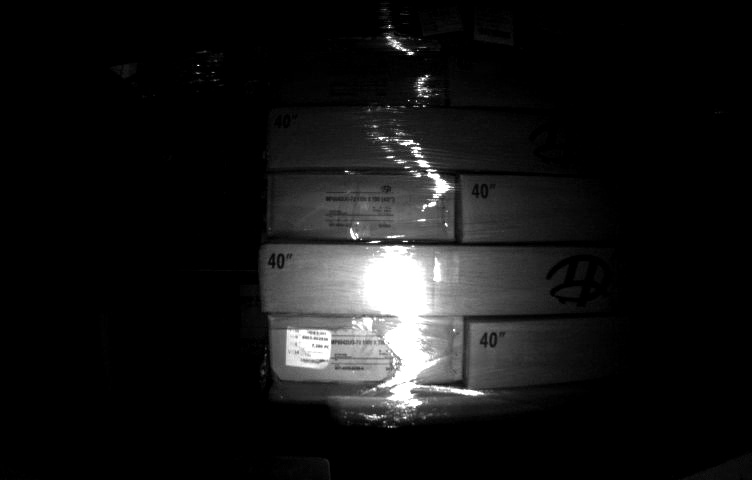True Barcode: (284, 324, 332, 369)
